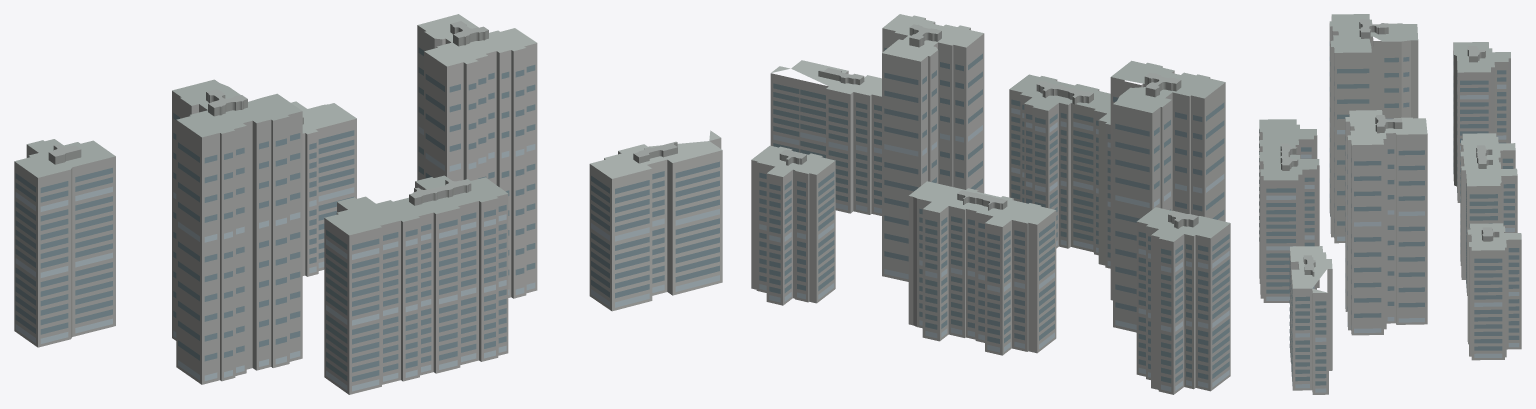
The model's file is apt-a13007001.glb.
The picture shows the model from 3 angles, left to right: view 1: azimuth 30°, elevation 25°; view 2: azimuth 150°, elevation 25°; view 3: azimuth 270°, elevation 25°; orthographic projection. The views are drawn at different scales.
Parts seen in each view (by area): view 1: apt-a13007001; view 2: apt-a13007001; view 3: apt-a13007001.
Boxes of the visible parts, left/top/right/bottom form: apt-a13007001: left=14, top=14, right=722, bottom=394; apt-a13007001: left=751, top=14, right=1230, bottom=394; apt-a13007001: left=1259, top=14, right=1521, bottom=394.
Size of the model in its own units: 174 by 72 by 87.08.
